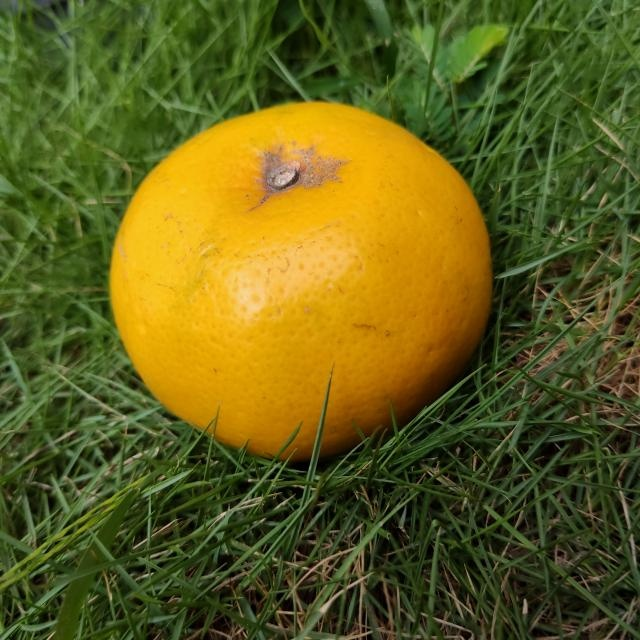agrume: (107, 97, 499, 465)
